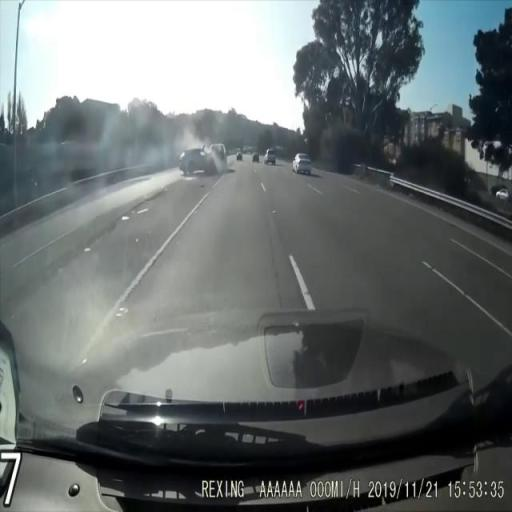小汽车: (289, 150, 315, 176), (262, 146, 280, 166)
小汽车撞小汽车: (176, 140, 231, 178)
